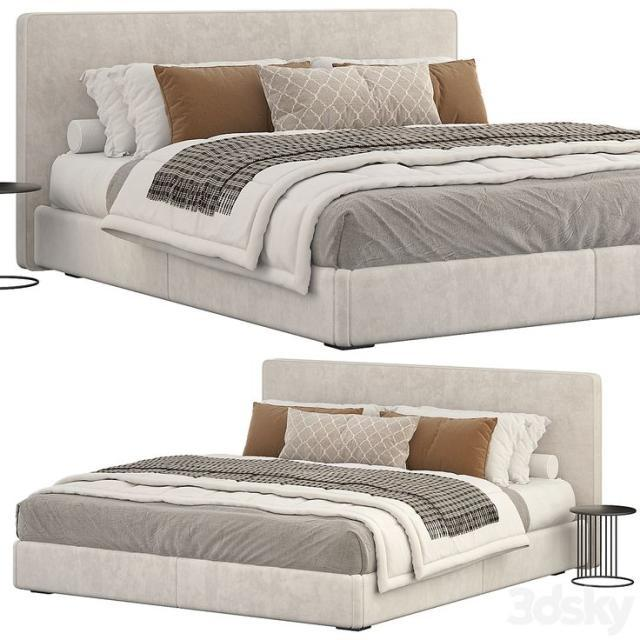obstacle: (15, 8, 640, 350), (11, 358, 603, 632), (568, 503, 636, 588), (0, 180, 41, 290)
